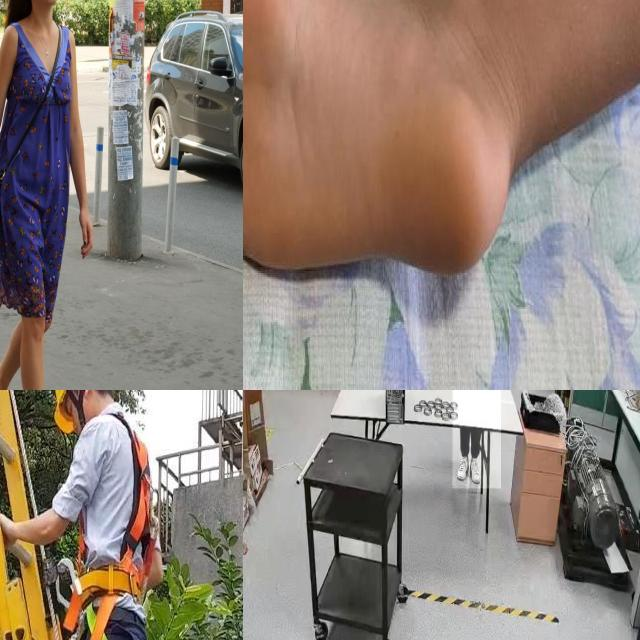Barefoots: (243, 0, 519, 305)
Harness: (64, 412, 156, 640)
person: (452, 390, 501, 489)
shoes: (470, 451, 484, 489), (455, 449, 469, 483)
